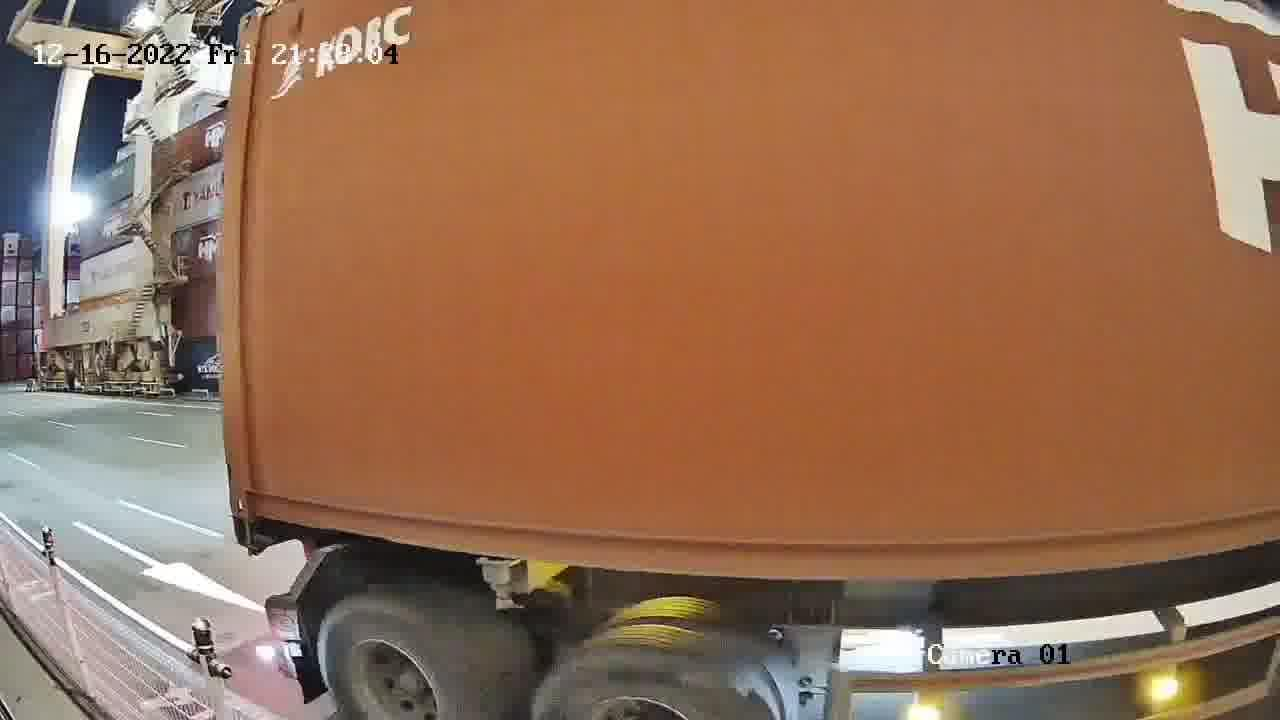Cone: (230, 517, 253, 552)
Hole_L: (223, 457, 290, 520)
Tire: (322, 596, 472, 719), (536, 645, 769, 717)
